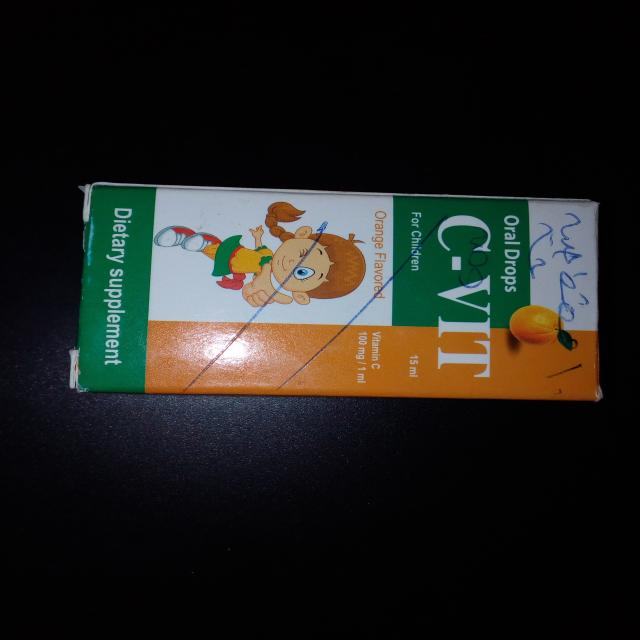C-VIT: (54, 171, 622, 442)
